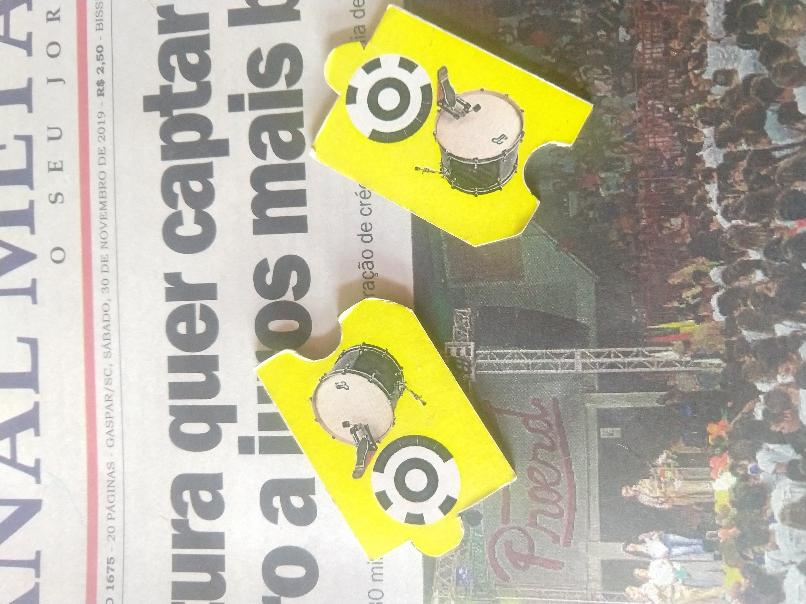bumbo: (255, 295, 517, 565), (310, 3, 591, 249)
